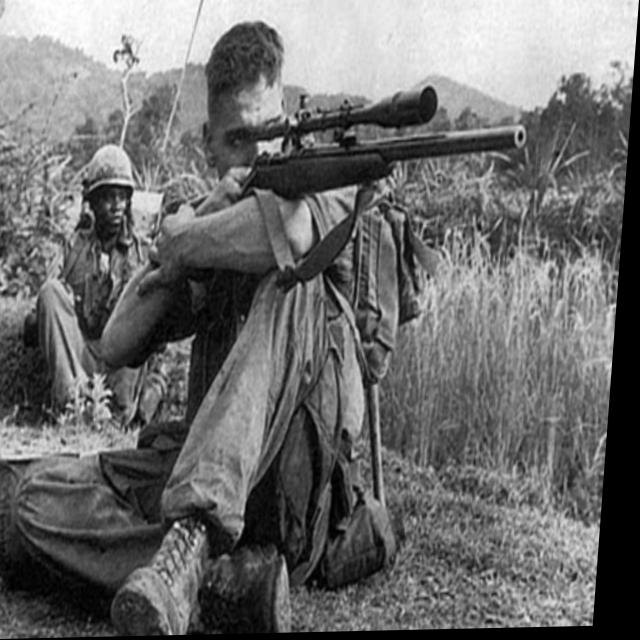other: (143, 23, 380, 601), (41, 145, 151, 395)
